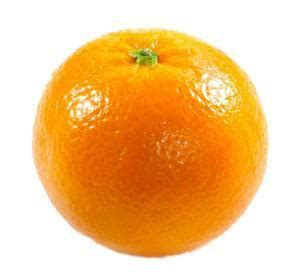orange: (26, 23, 272, 259)
